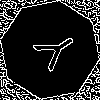Y: (25, 25, 81, 78)
